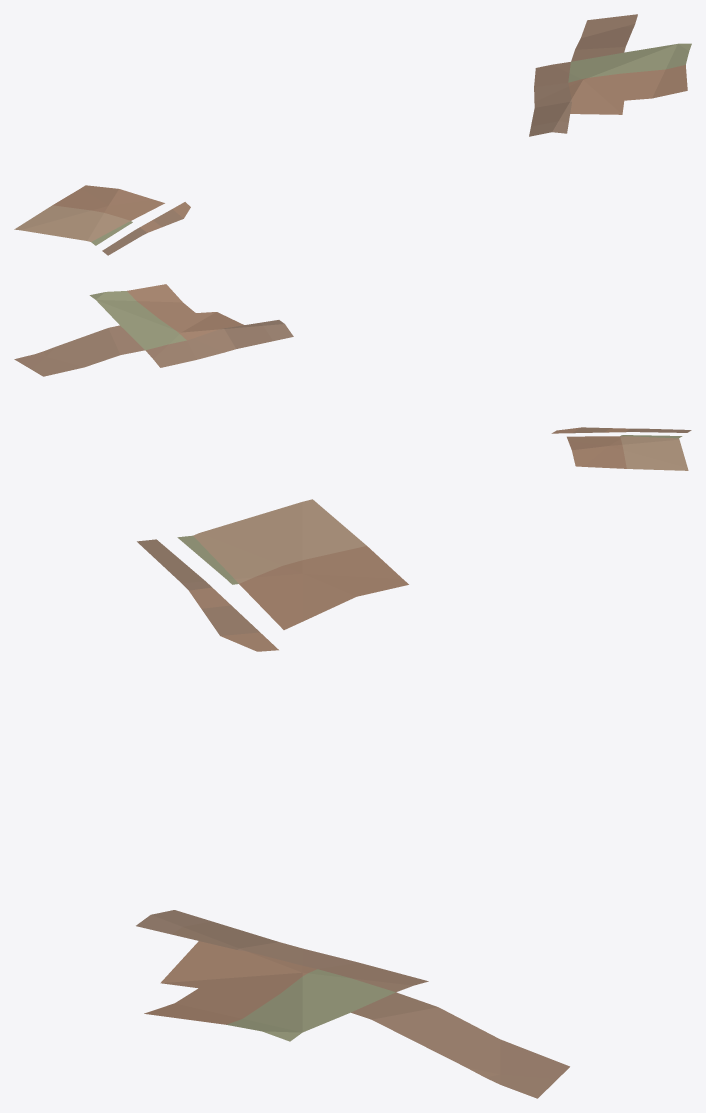
The model's file is farm_-34_-34_soil.glb.
The picture shows the model from 3 angles, top to bottom: view 1: azimuth 30°, elevation 25°; view 2: azimuth 150°, elevation 25°; view 3: azimuth 270°, elevation 25°; orthographic projection. The views are drawn at different scales.
Parts seen in each view (by area): view 1: geometry_0; view 2: geometry_0; view 3: geometry_0.
Boxes of the visible parts, x1,y1,x2,y2 form: geometry_0: (14, 14, 691, 255); geometry_0: (14, 284, 691, 470); geometry_0: (136, 499, 569, 1098).
Size of the model in its own units: 579 by 26.54 by 176.
